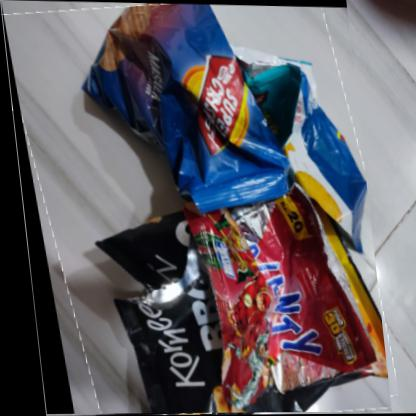Garbage: (2, 1, 384, 416)
